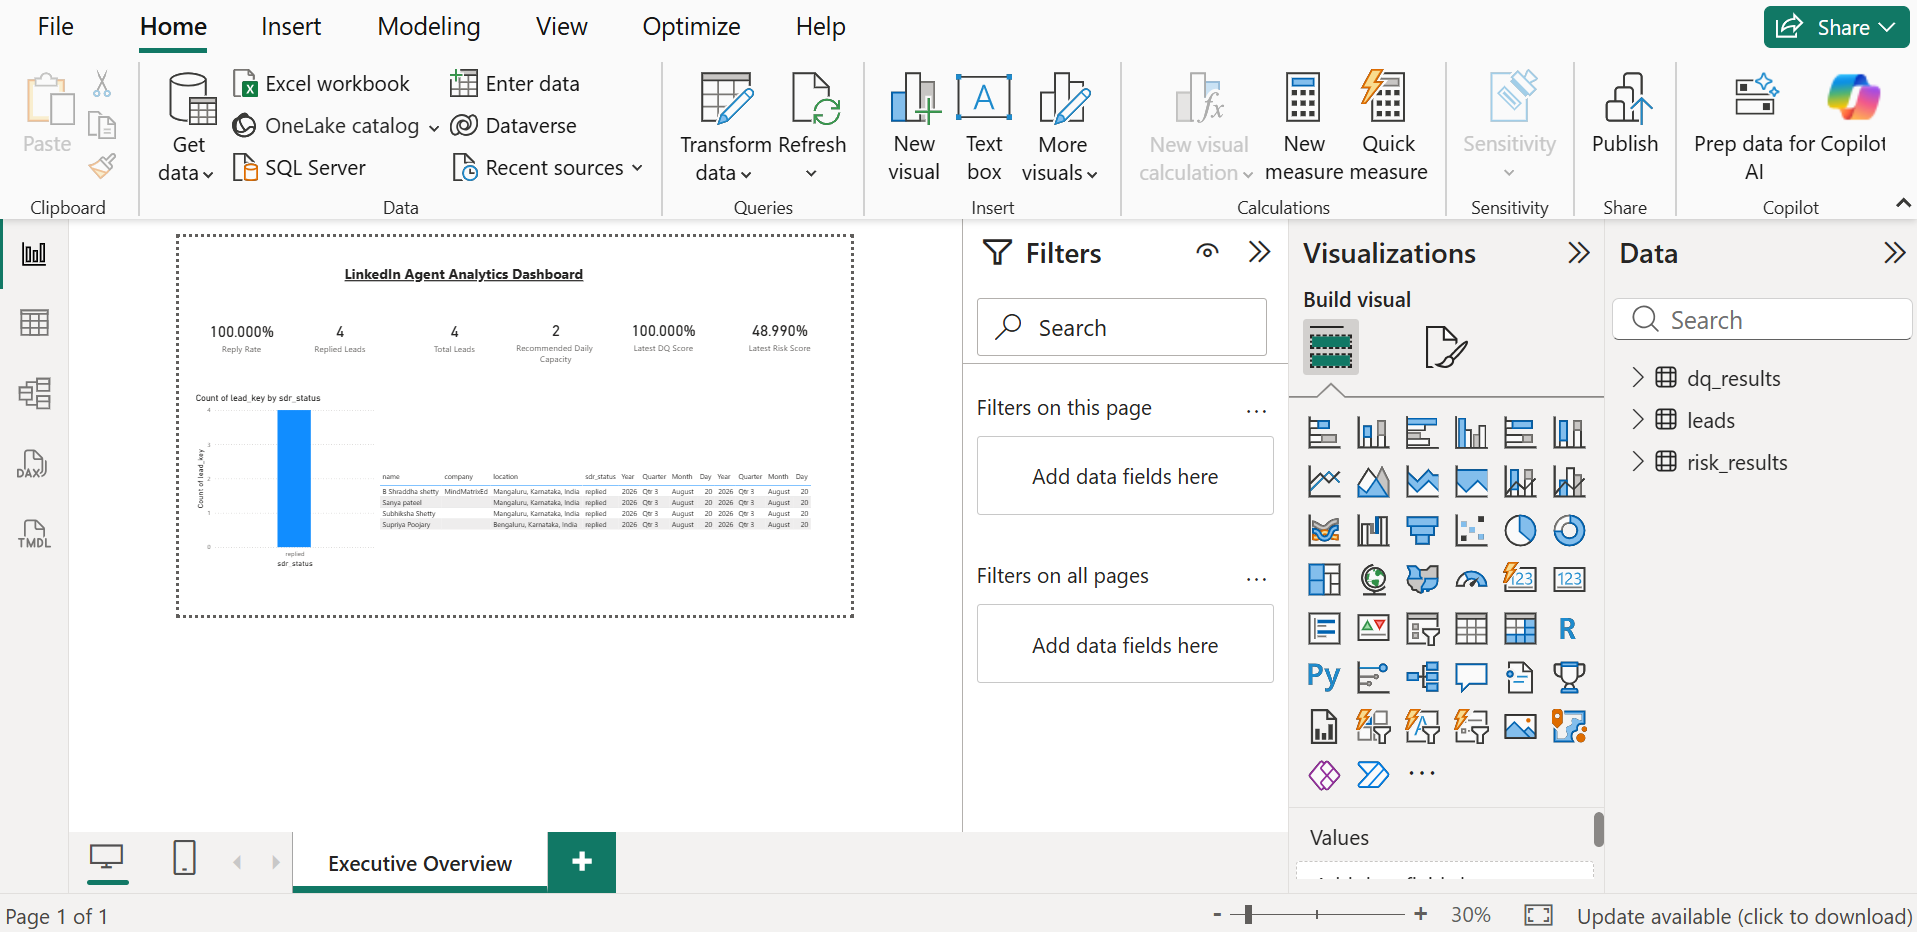

The dashboard page shown, as its layout file describes it:
{"tool":"powerbi","page":{"name":"Executive Overview","canvas":[1280,720],"ordinal":0},"visuals":[{"type":"card","fields":{"Values":["leads.Total Leads"]},"box":[432.5,100,182.5,177.5],"z":0},{"type":"card","fields":{"Values":["leads.Replied Leads"]},"box":[217.5,100,180,177.5],"z":1000},{"type":"card","fields":{"Values":["leads.Reply Rate"]},"box":[35,100,165,177.5],"z":2000},{"type":"card","fields":{"Values":["risk_results.Recommended Daily Capacity"]},"box":[630,97.5,175,180],"z":3000},{"type":"card","fields":{"Values":["risk_results.Latest Risk Score"]},"box":[1057.5,97.5,175,180],"z":4000},{"type":"card","fields":{"Values":["dq_results.Latest DQ Score"]},"box":[840,97.5,165,180],"z":5000},{"type":"clusteredColumnChart","fields":{"Category":["leads.sdr_status"],"Y":["CountNonNull(leads.lead_key)"]},"box":[25,297.5,350,337.5],"z":6000},{"type":"tableEx","fields":{"Values":["leads.name","leads.company","leads.location","leads.sdr_status","leads.added_on.Variation.Date Hierarchy.Year","leads.added_on.Variation.Date Hierarchy.Quarter","leads.added_on.Variation.Date Hierarchy.Month","leads.added_on.Variation.Date Hierarchy.Day","leads.last_contacted.Variation.Date Hierarchy.Year","leads.last_contacted.Variation.Date Hierarchy.Quarter","leads.last_contacted.Variation.Date Hierarchy.Month","leads.last_contacted.Variation.Date Hierarchy.Day"]},"box":[375,440,857.5,160],"z":7000},{"type":"textbox","box":[308.3,45,493.3,58.3],"z":8000}]}

Visuals, with their boxes on the page's 1280x720 design canvas (x1, y1, x2, y2). These are canvas units, not pixel positions in the 1917x932 screenshot, which may show the page scaled, cropped or inside an application window:
card - leads.Total Leads: box=[432, 100, 615, 278]
card - leads.Replied Leads: box=[218, 100, 398, 278]
card - leads.Reply Rate: box=[35, 100, 200, 278]
card - risk_results.Recommended Daily Capacity: box=[630, 98, 805, 278]
card - risk_results.Latest Risk Score: box=[1058, 98, 1232, 278]
card - dq_results.Latest DQ Score: box=[840, 98, 1005, 278]
clusteredColumnChart - leads.sdr_status x CountNonNull(leads.lead_key): box=[25, 298, 375, 635]
tableEx - leads.name x leads.company: box=[375, 440, 1232, 600]
textbox: box=[308, 45, 802, 103]
